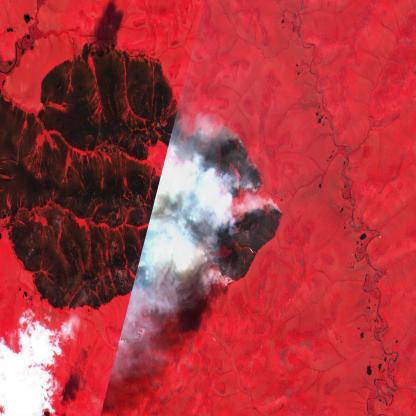fire: (182, 129, 280, 289)
